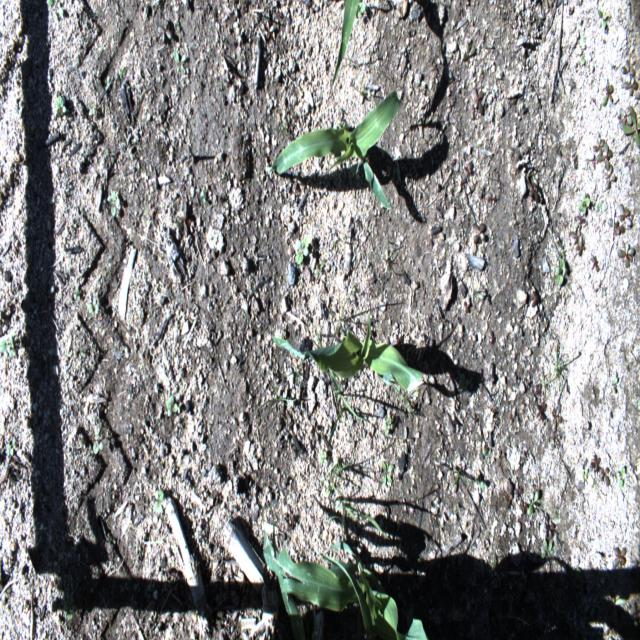crop: (262, 509, 428, 638), (265, 86, 402, 208), (272, 305, 423, 391), (330, 0, 359, 92)
weed: (314, 324, 367, 426), (337, 497, 388, 539), (542, 350, 574, 396), (622, 110, 640, 150), (570, 217, 585, 258), (607, 584, 628, 607), (618, 242, 636, 268), (471, 83, 485, 116), (163, 393, 179, 421), (595, 143, 612, 169), (107, 188, 121, 219), (295, 235, 309, 266), (402, 424, 415, 457), (618, 104, 634, 130), (618, 202, 633, 229), (157, 16, 171, 44), (526, 488, 540, 516), (600, 80, 614, 108), (554, 258, 567, 288), (620, 60, 635, 85), (611, 544, 627, 567), (173, 51, 187, 77), (381, 461, 394, 487), (0, 336, 14, 360), (472, 223, 487, 244), (54, 93, 66, 119), (153, 489, 164, 517), (623, 78, 639, 97), (540, 538, 554, 558), (578, 194, 590, 215), (92, 437, 105, 455), (87, 297, 99, 316), (356, 3, 366, 21)
